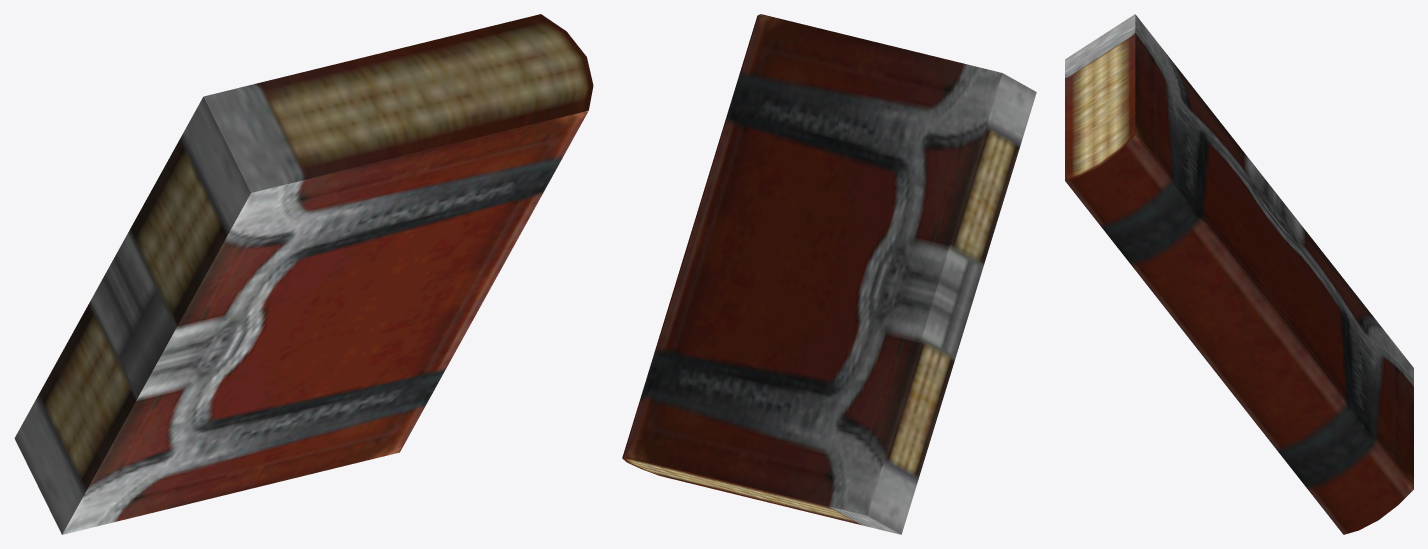
Rendered from m3_icon.ico.obj.
3 views of the same model, side by side, from view 1: azimuth 30°, elevation 25°; view 2: azimuth 150°, elevation 25°; view 3: azimuth 270°, elevation 25° (orthographic). The views are drawn at different scales.
Size of the model in its own units: 2.12 by 3.05 by 2.42.
1 material, 1 textured.
